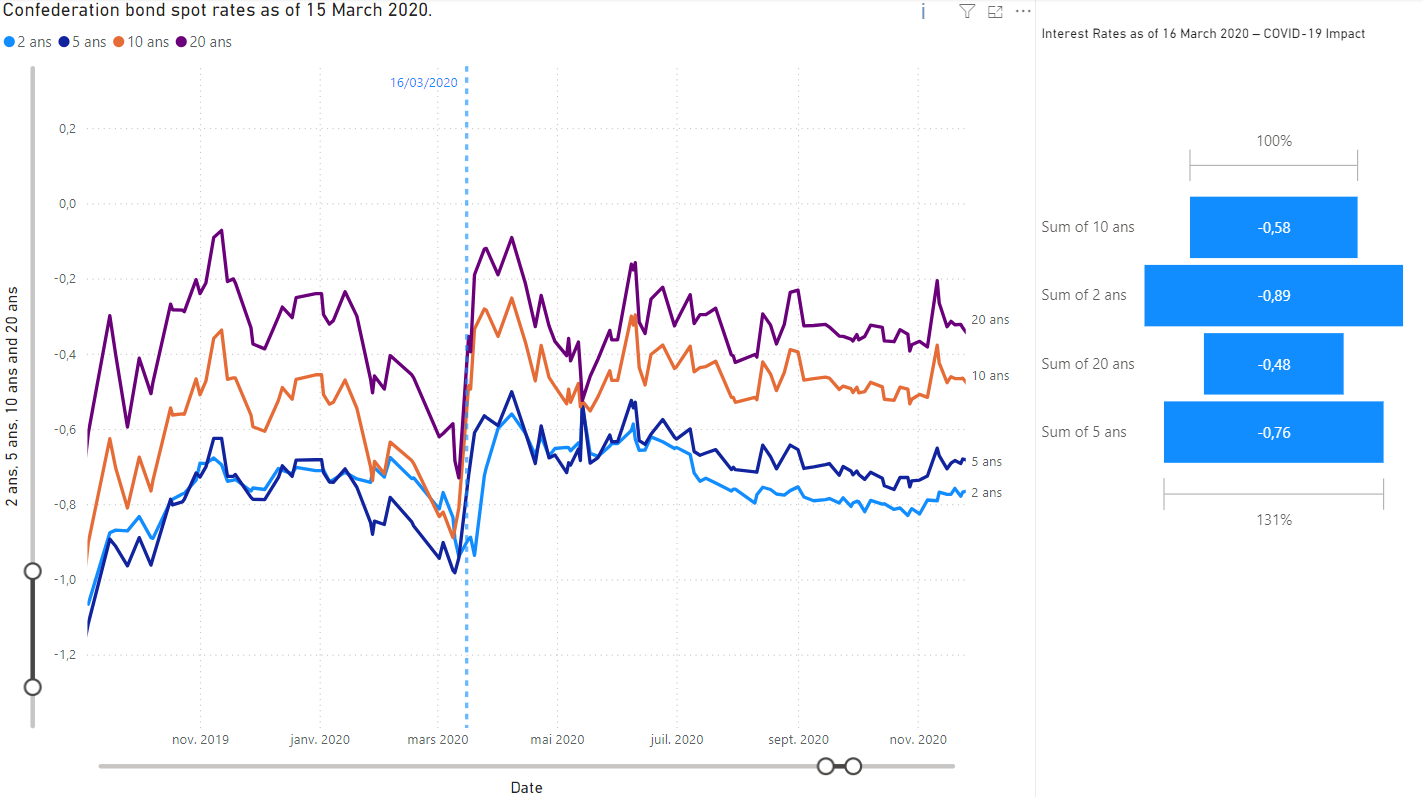

Layout of this report page (visuals, bound fields, positions):
{"tool":"powerbi","page":{"name":"Ti COVID-19","canvas":[1280,720],"ordinal":6},"visuals":[{"type":"lineChart","title":"Confederation bond spot rates as of 15 March 2020.","fields":{"Y":["Sum(rendeidglfzch.2 ans)","Sum(rendeidglfzch.5 ans)","Sum(rendeidglfzch.10 ans)","Sum(rendeidglfzch.20 ans)"],"Category":["rendeidglfzch.Date"]},"box":[0,0,930.7,719.6],"z":0},{"type":"funnel","title":"Interest Rates as of 16 March 2020 – COVID-19 Impact","fields":{"Y":["Sum(rendeidglfzch.10 ans)","Sum(rendeidglfzch.2 ans)","Sum(rendeidglfzch.20 ans)","Sum(rendeidglfzch.5 ans)"]},"box":[930.7,24.9,338.7,529.7],"z":1000}]}

Visuals, with their boxes in screenshot pixels (x1, y1, x2, y2), scaled from the page's 1280x720 canvas onto the 1423x797 screenshot:
"Confederation bond spot rates as of 15 March 2020." lineChart: detection(0, 0, 1035, 796)
"Interest Rates as of 16 March 2020 – COVID-19 Impact" funnel: detection(1035, 28, 1411, 614)
